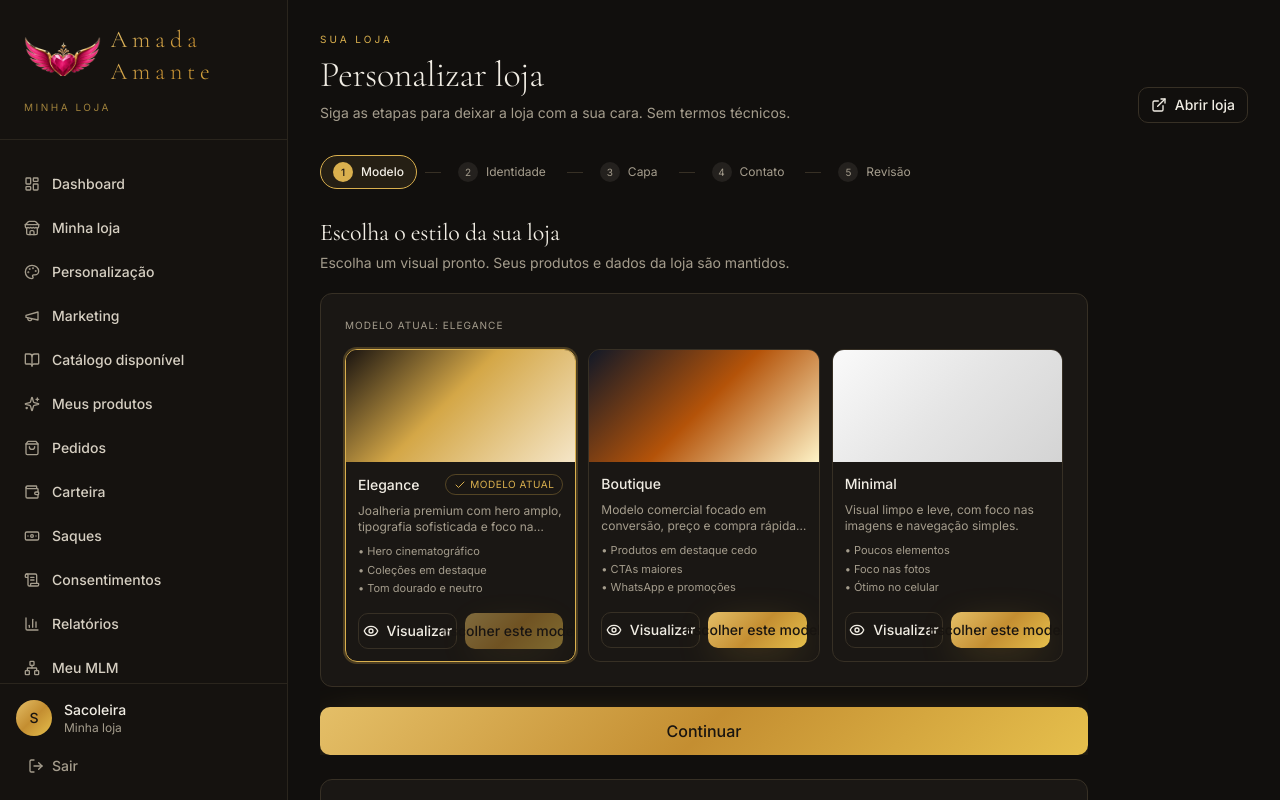
Test: customization wizard › escolhe cor pronta e permite cor personalizada
Click the button with test id "customization-continue": (704, 730) top-left (320, 706), bottom-right (1088, 754)
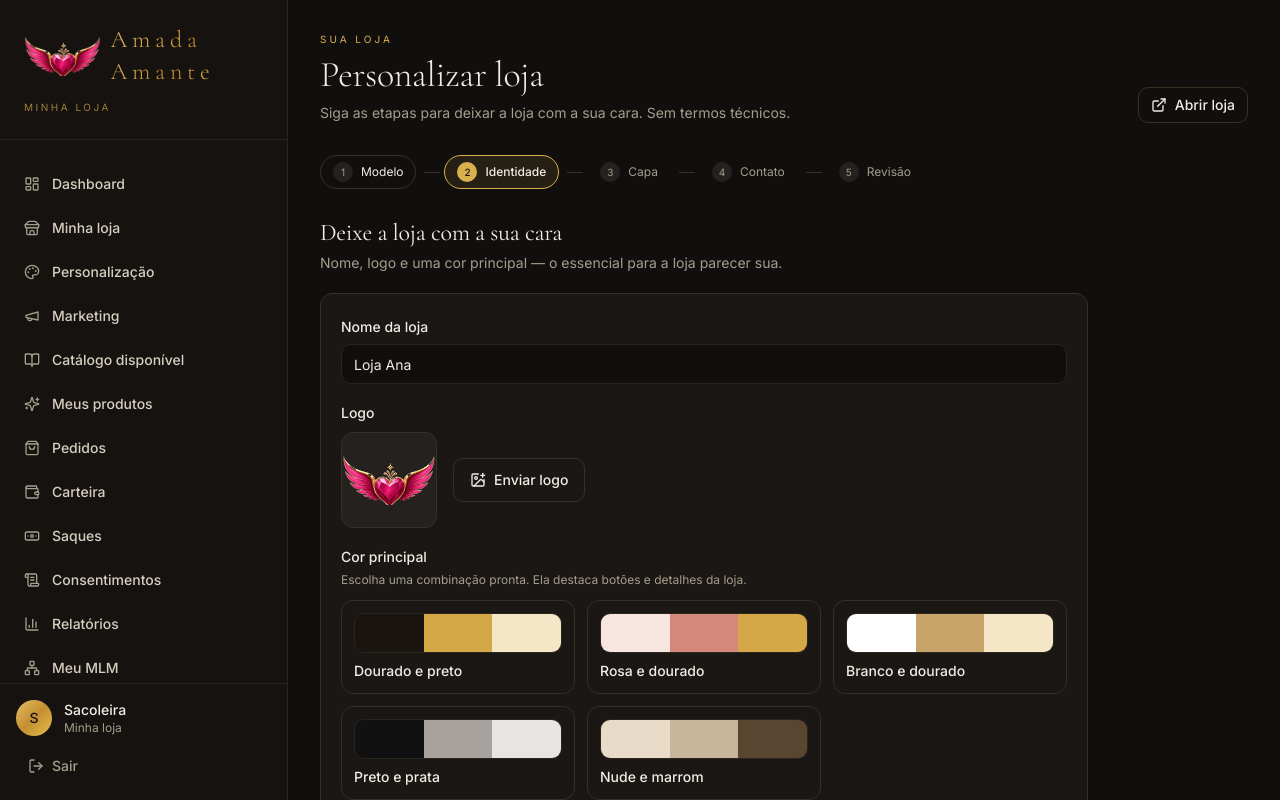
Click the button "Dourado e preto": (458, 647) top-left (341, 600), bottom-right (575, 694)
(page scrolled)
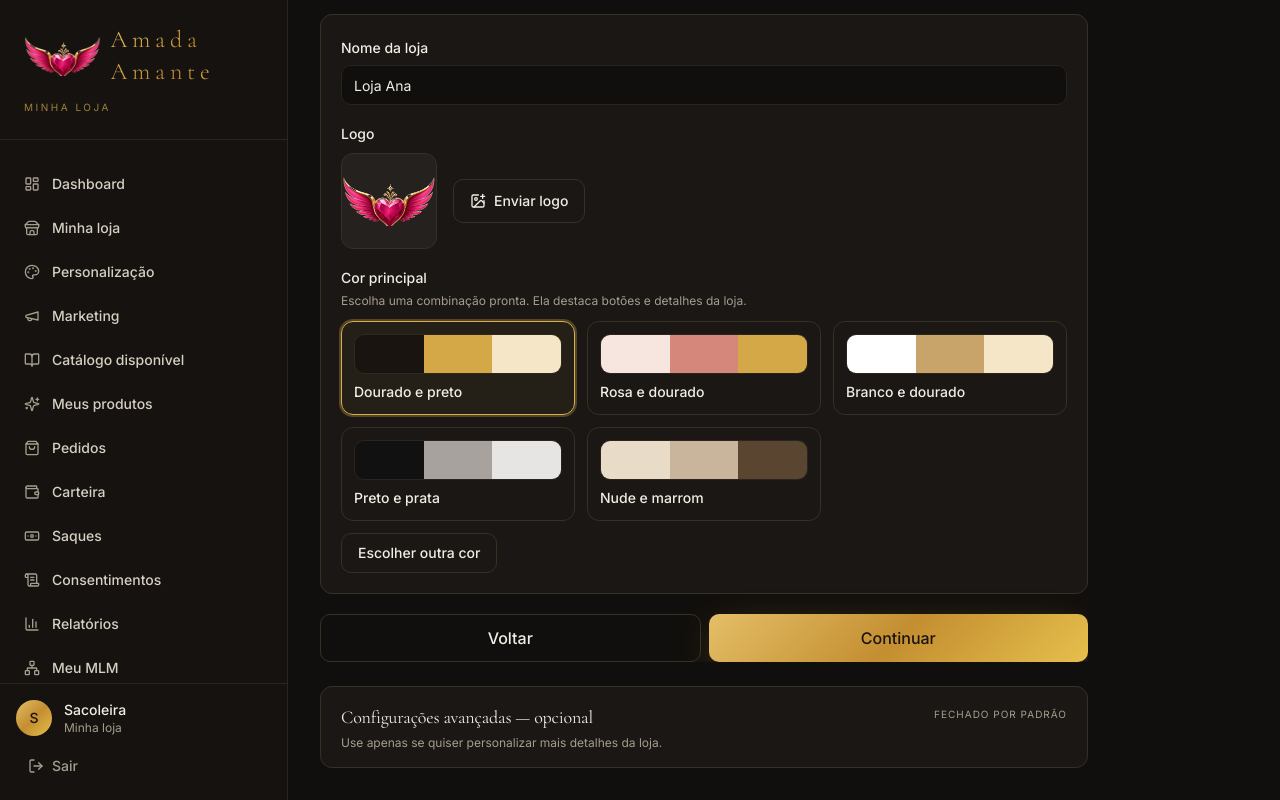
Click the button with test id "customization-custom-color-toggle": (419, 553) top-left (341, 533), bottom-right (498, 573)
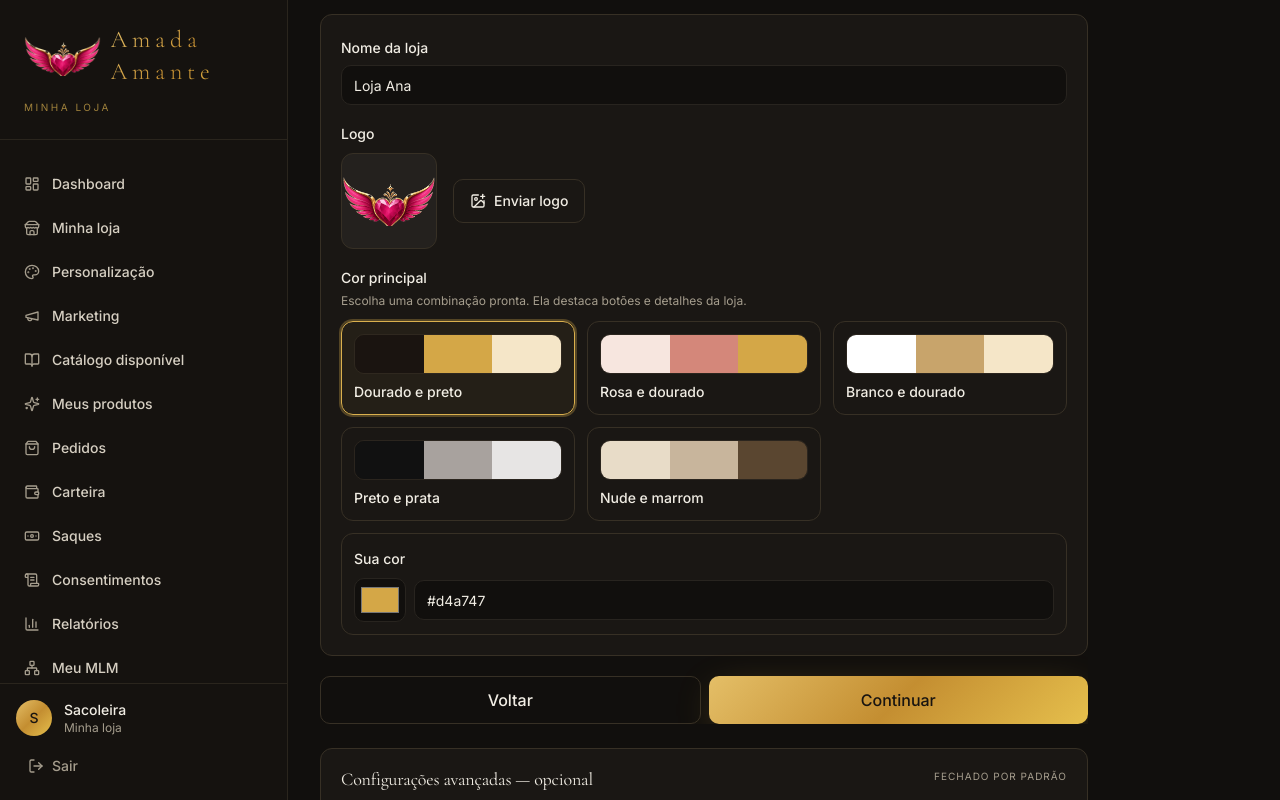
Result: the element with test id "customization-custom-color" is shown at top-left (341, 533), bottom-right (1067, 635)
